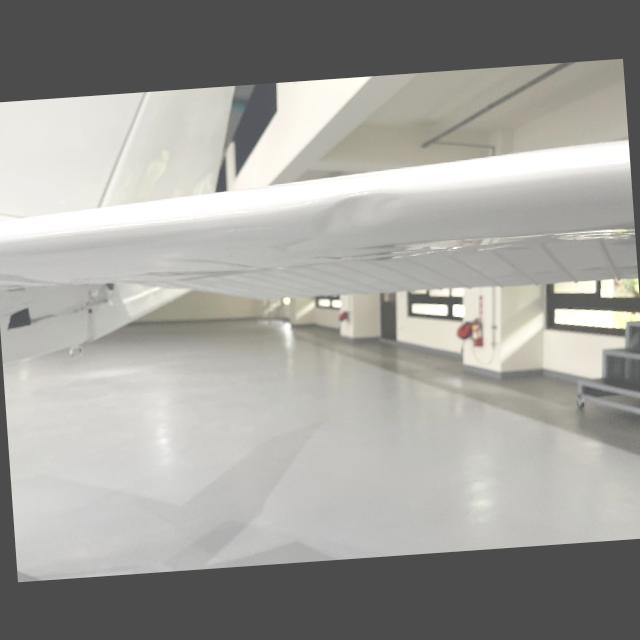dent: (301, 184, 418, 232)
